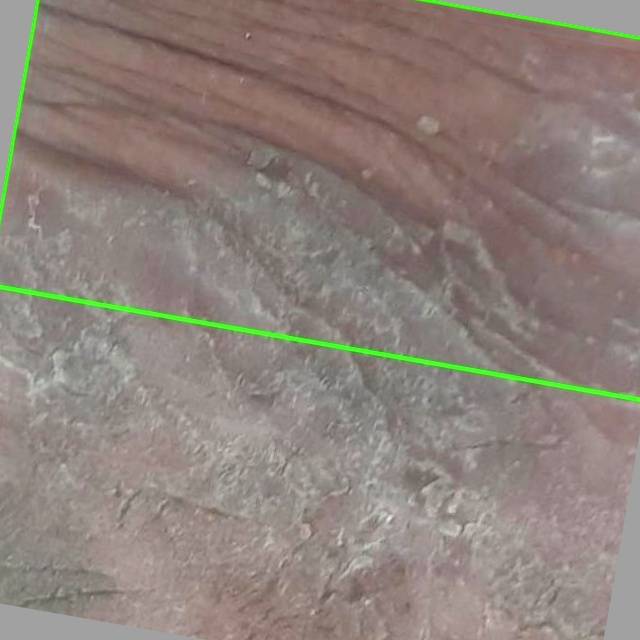Eczema: (0, 0, 639, 399)
